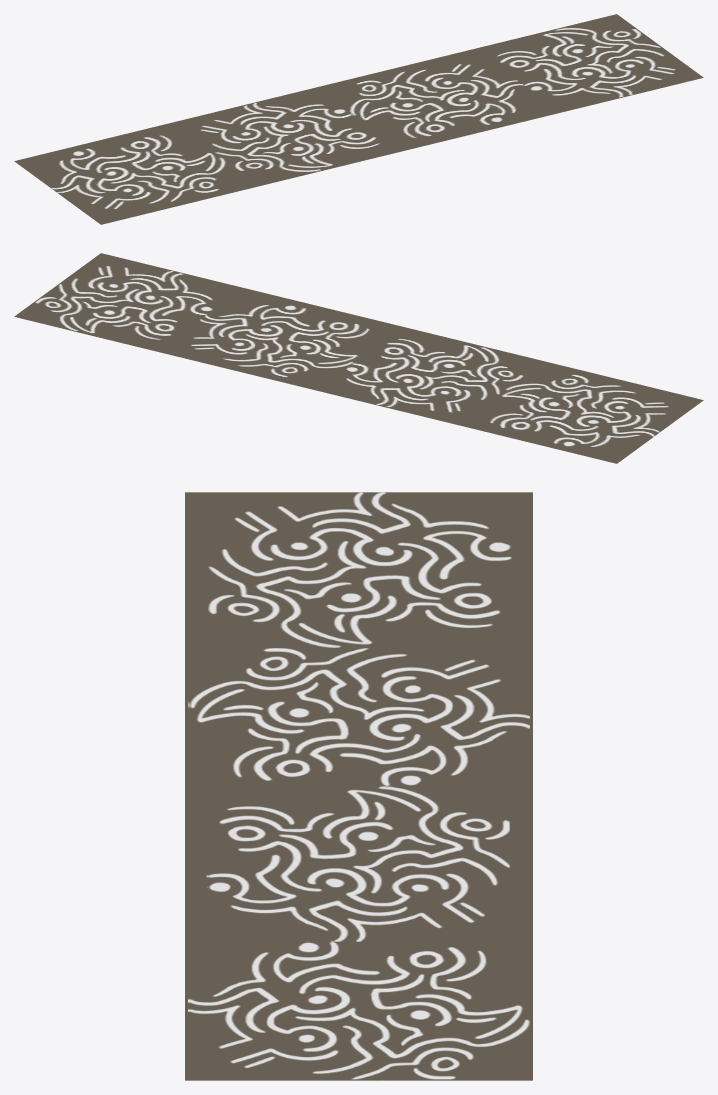
Rendered from FlagRectangle.fbx.
3 views of the same model, one above another, from view 1: azimuth 30°, elevation 25°; view 2: azimuth 150°, elevation 25°; view 3: azimuth 270°, elevation 25° (orthographic). The views are drawn at different scales.
Visible parts, largest first — view 1: Plane002; view 2: Plane002; view 3: Plane002.
Boxes of the visible parts, x1,y1,x2,y2 form: Plane002: (14,14,703,224); Plane002: (14,253,703,463); Plane002: (185,492,532,1080).
Size of the model in its own units: 80 by 20 by 0.
Materials: 1 (1 with a texture image).
